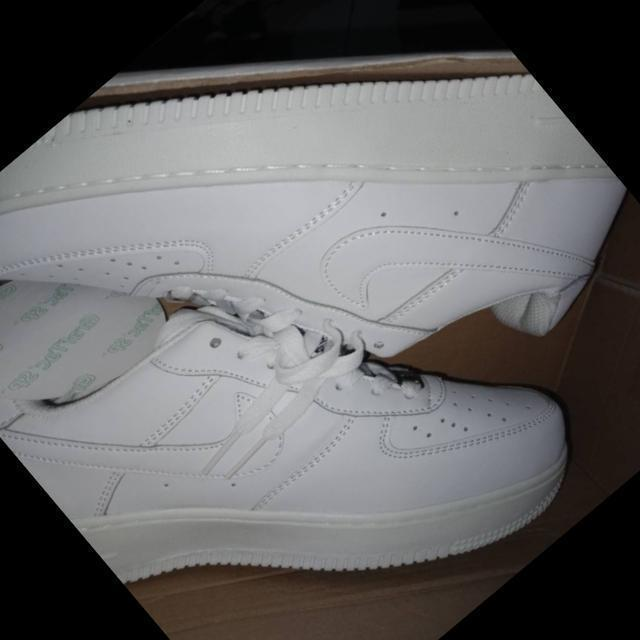nike fake air force: (0, 0, 640, 602), (0, 116, 597, 640)
